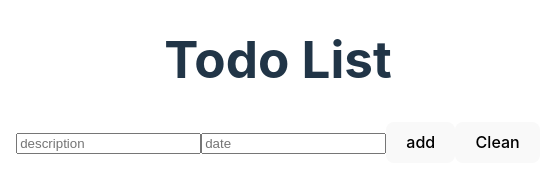
it: clean todo
Type "Test description3" into the field with placeholder "description" at (109, 144), box [16, 134, 201, 154]
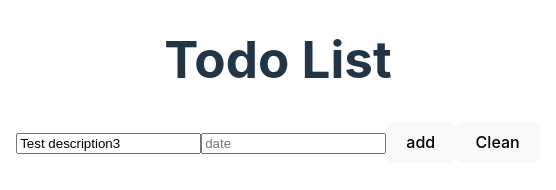
Type "2021-09-03" into the field with placeholder "date" at (294, 144), box [201, 134, 386, 154]
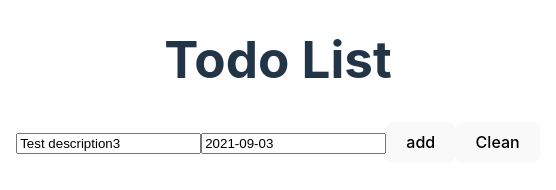
Click the button "add" at (421, 142), box [386, 122, 456, 163]
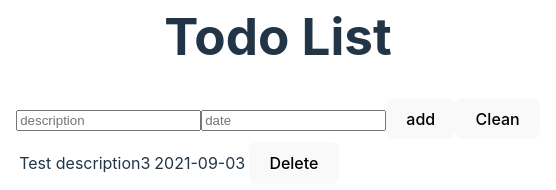
Click the button "Clean" at (498, 119), box [455, 98, 540, 140]
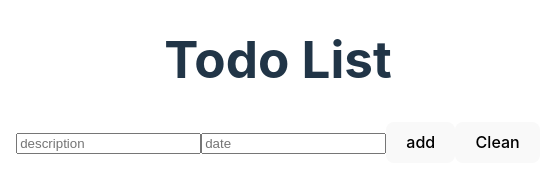
Expected: the text "Test description3" is gone
